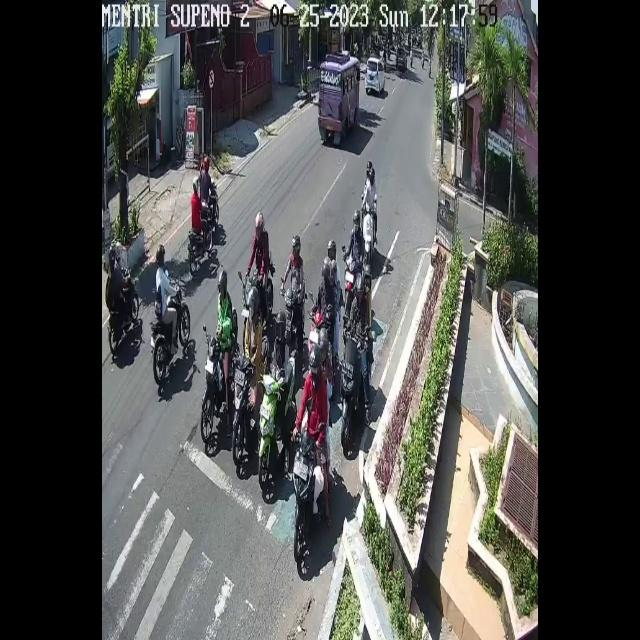bus: (291, 430, 330, 562), (259, 356, 296, 490), (231, 336, 267, 464), (150, 282, 190, 385), (339, 325, 372, 447), (200, 334, 236, 444), (107, 266, 140, 356), (241, 255, 277, 334), (188, 198, 214, 276), (279, 288, 303, 340), (362, 203, 376, 265), (201, 180, 219, 226), (344, 253, 357, 312), (308, 310, 326, 342)
car: (319, 51, 361, 142)
motorcycle: (365, 57, 386, 92)
